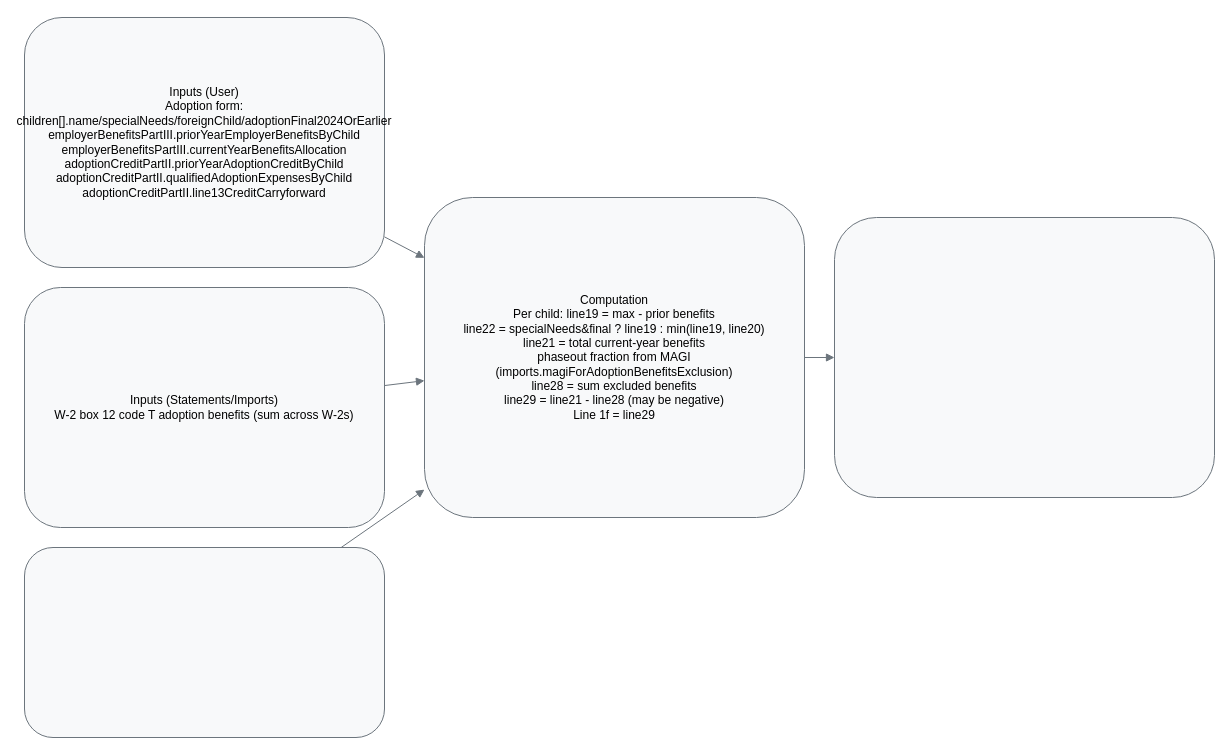
Image size: 1232x755. Some labels were removed from this diagram. The shapes that lost their labels are listed below. From the top down, each one's box as (x1, y1, x2, y2) in pixels, then its label:
(834, 216, 1214, 498): Outputs Form 1040 line 1f Form 8839 Schedule 3 adoption credit
(24, 546, 384, 738): Reference/Derived Inputs Adoption exclusion max per child Phaseout start/range
